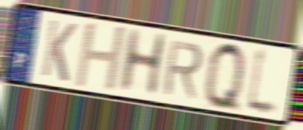H: (72, 22, 129, 93), (116, 27, 170, 97)
K: (39, 17, 79, 85)
L: (243, 44, 281, 122)
Q: (204, 38, 247, 116)
R: (160, 39, 206, 101)
